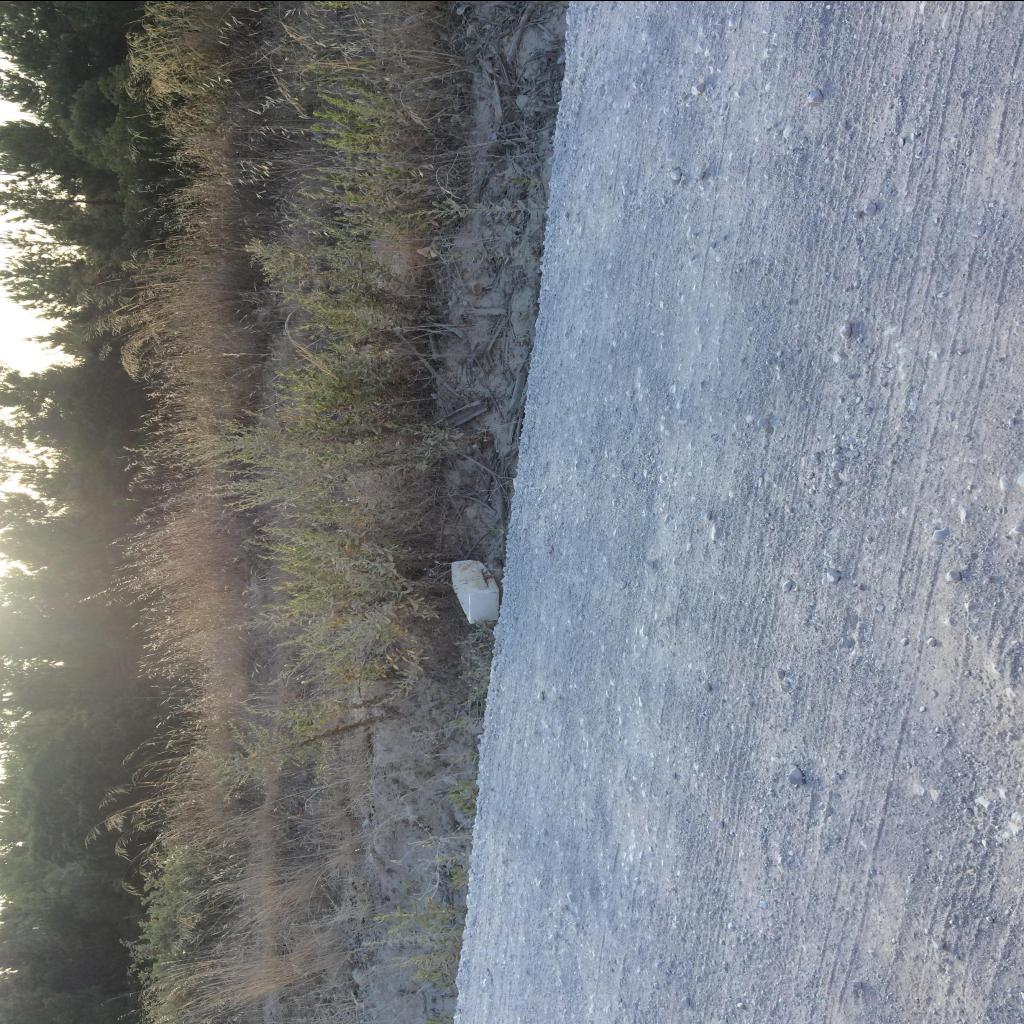Styrofoam piece: (452, 558, 500, 622)
Unlabeled litter: (416, 244, 438, 258)
